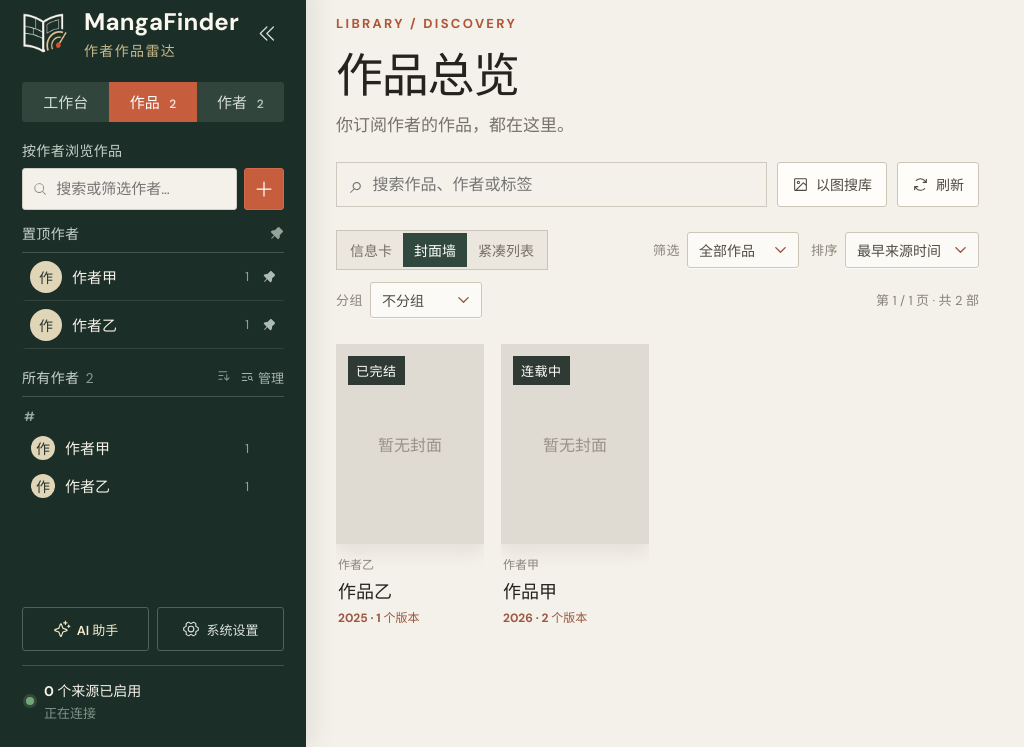
Scenario: catalog views › switches display mode, filters works, and groups by author
Earlier steps of the test are not shown.
expect the button with aria-label "查看《作品甲》" is shown: met, box [501,344,649,625]
Click the dropdown named "筛选" at (743, 250), box [687,232,799,268]
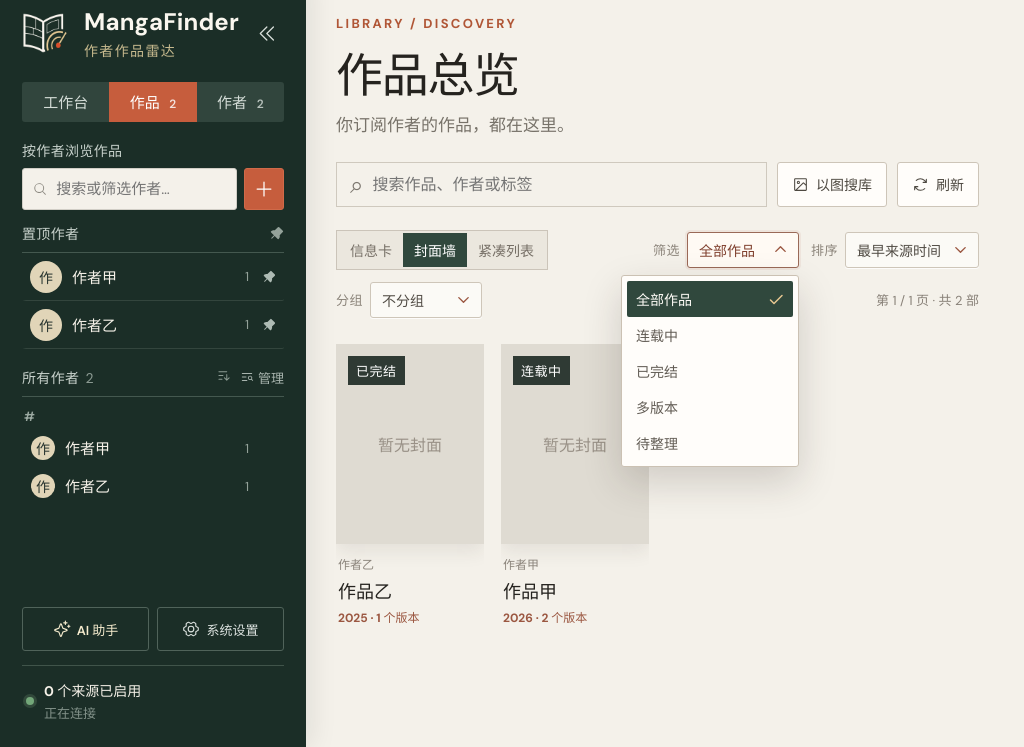
Click the option "多版本" at (710, 407), box [627,389,793,425]
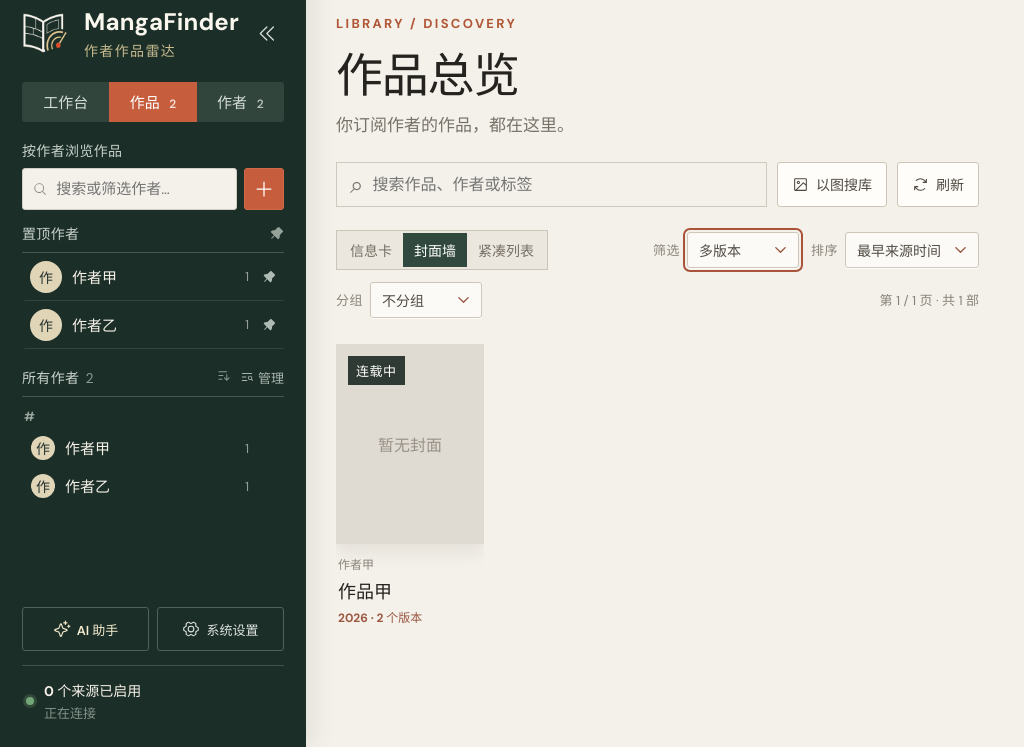
expect the text "作品甲" is shown: met, box [338,581,392,601]
expect the button "作品乙" is gone: met
Click the dropdown named "筛选" at (743, 250), box [687,232,799,268]
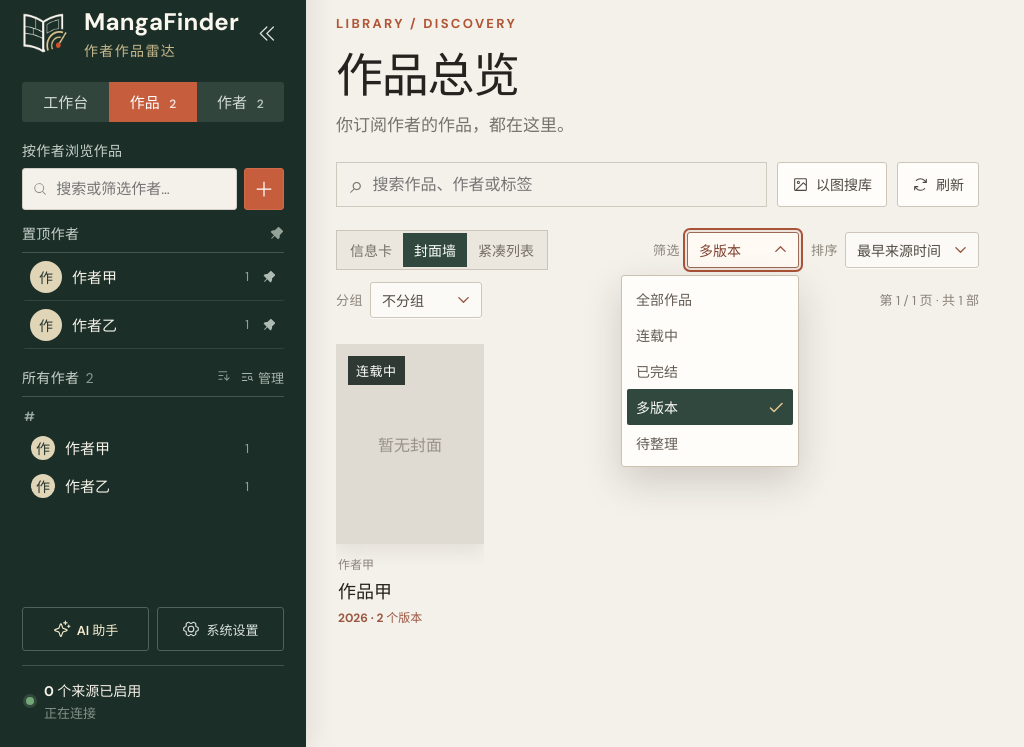
Click the option "全部作品" at (710, 299), box [627,281,793,317]
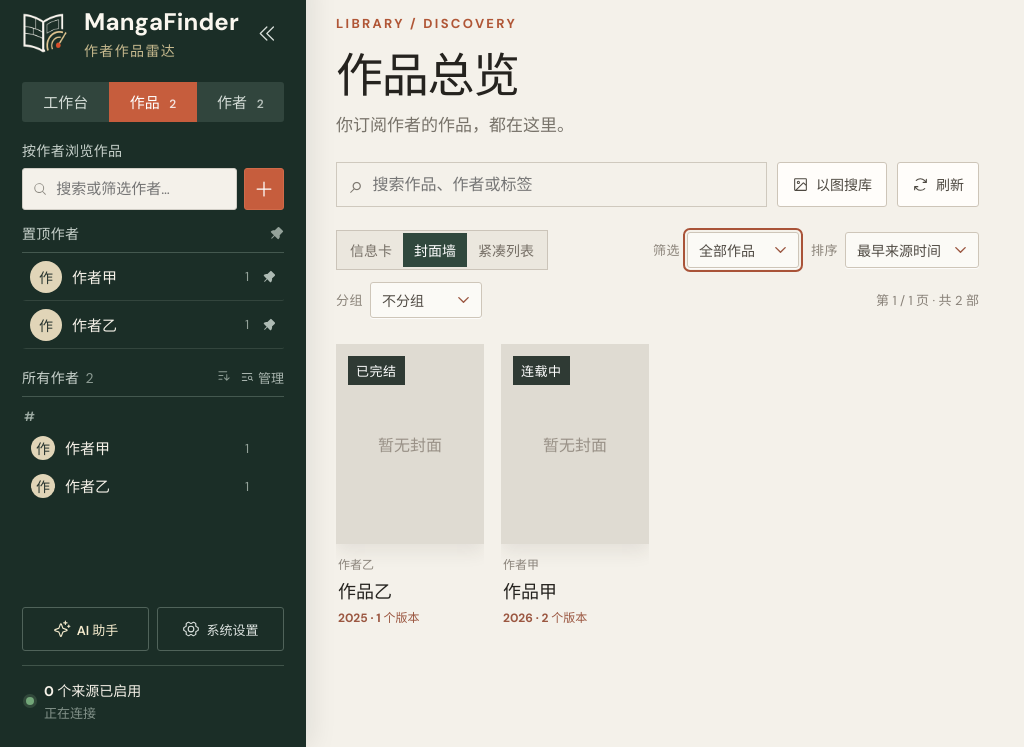
Click the dropdown labelled "分组" at (426, 300), box [370,282,482,318]
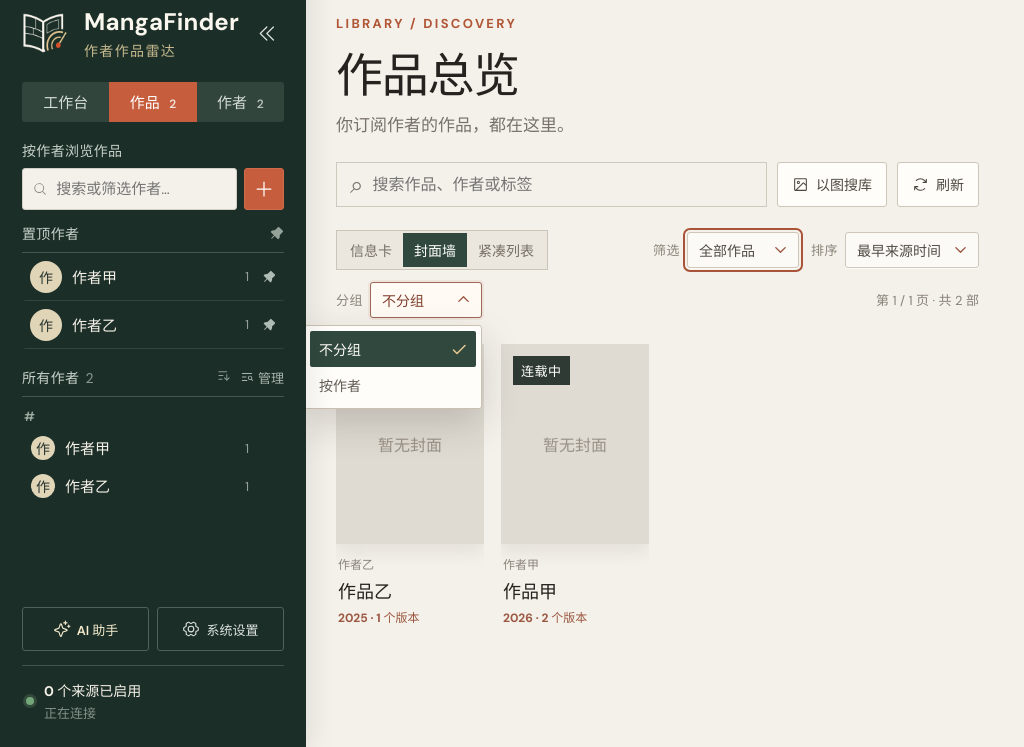
Click the option "按作者" at (393, 385), box [310,367,476,403]
(page scrolled)
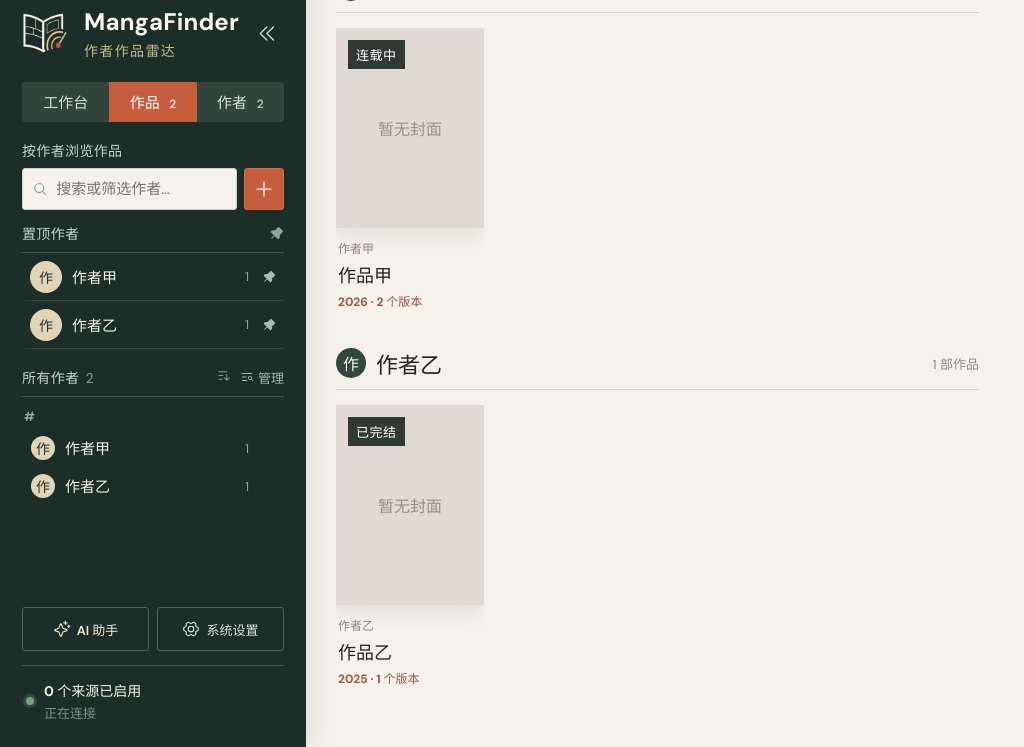
expect the heading "作者乙" is shown: met, box [376,347,442,379]
